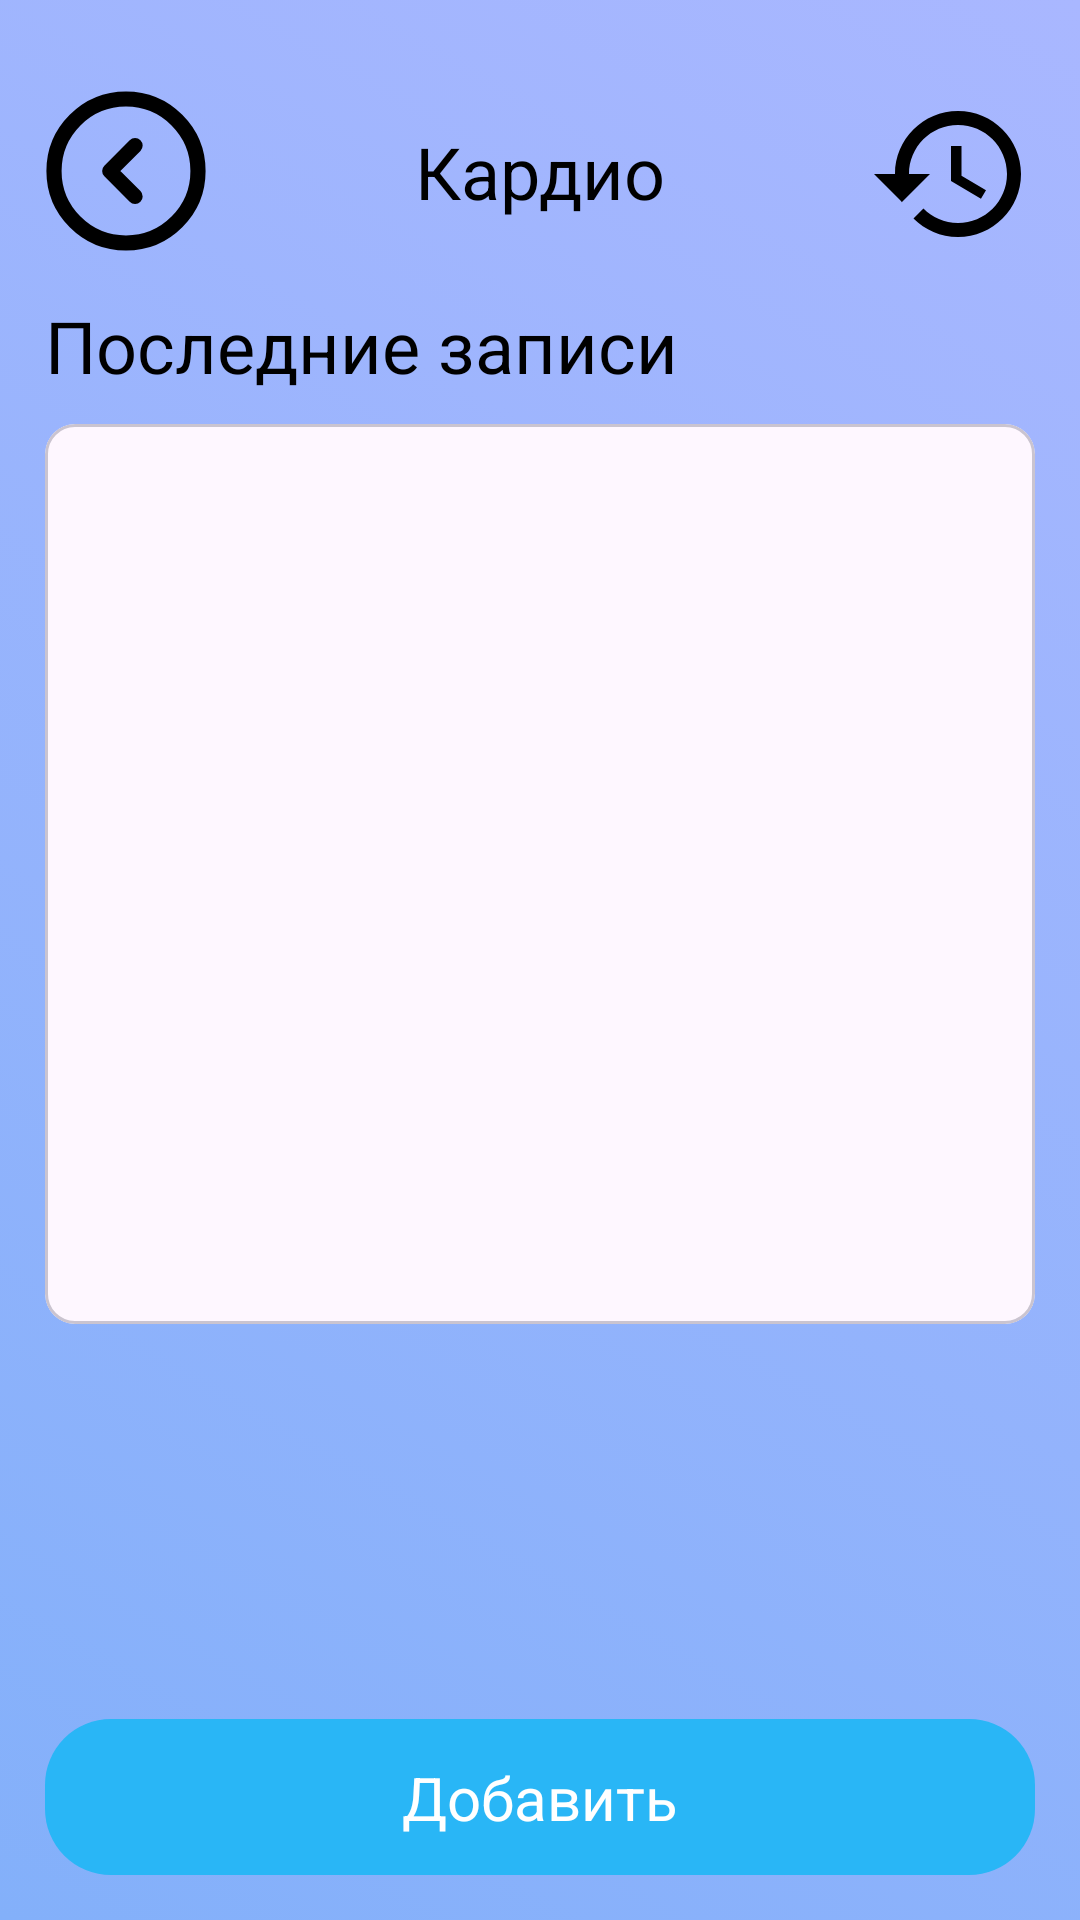

Screen size 1080px×1920px. Icon name, then its box in pixels as (x1, y1, x2, y2):
arrow left: (46, 91, 206, 251)
history: (874, 111, 1021, 237)
